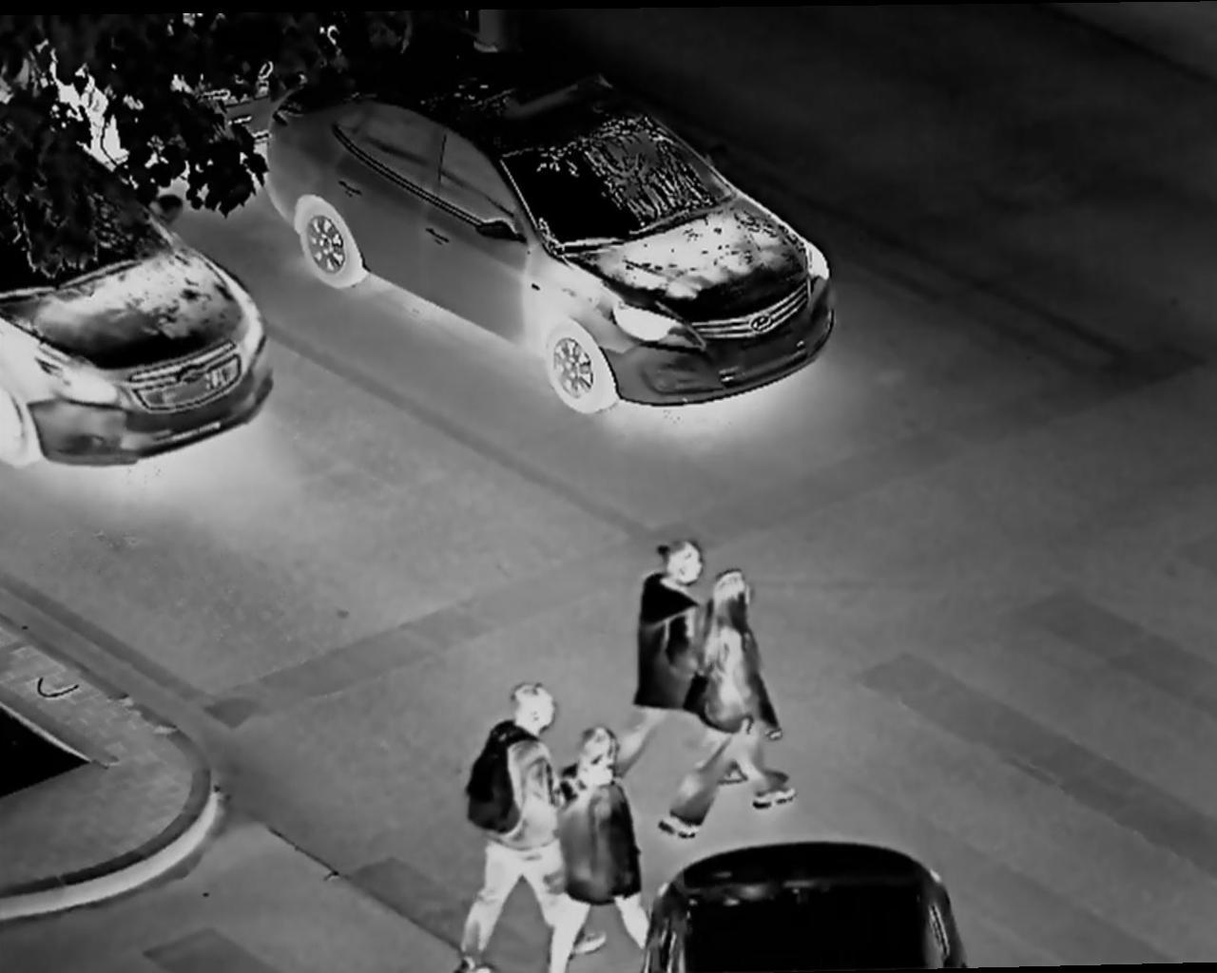person: (464, 672, 582, 973), (544, 723, 666, 971), (682, 574, 793, 823), (624, 541, 711, 792)
